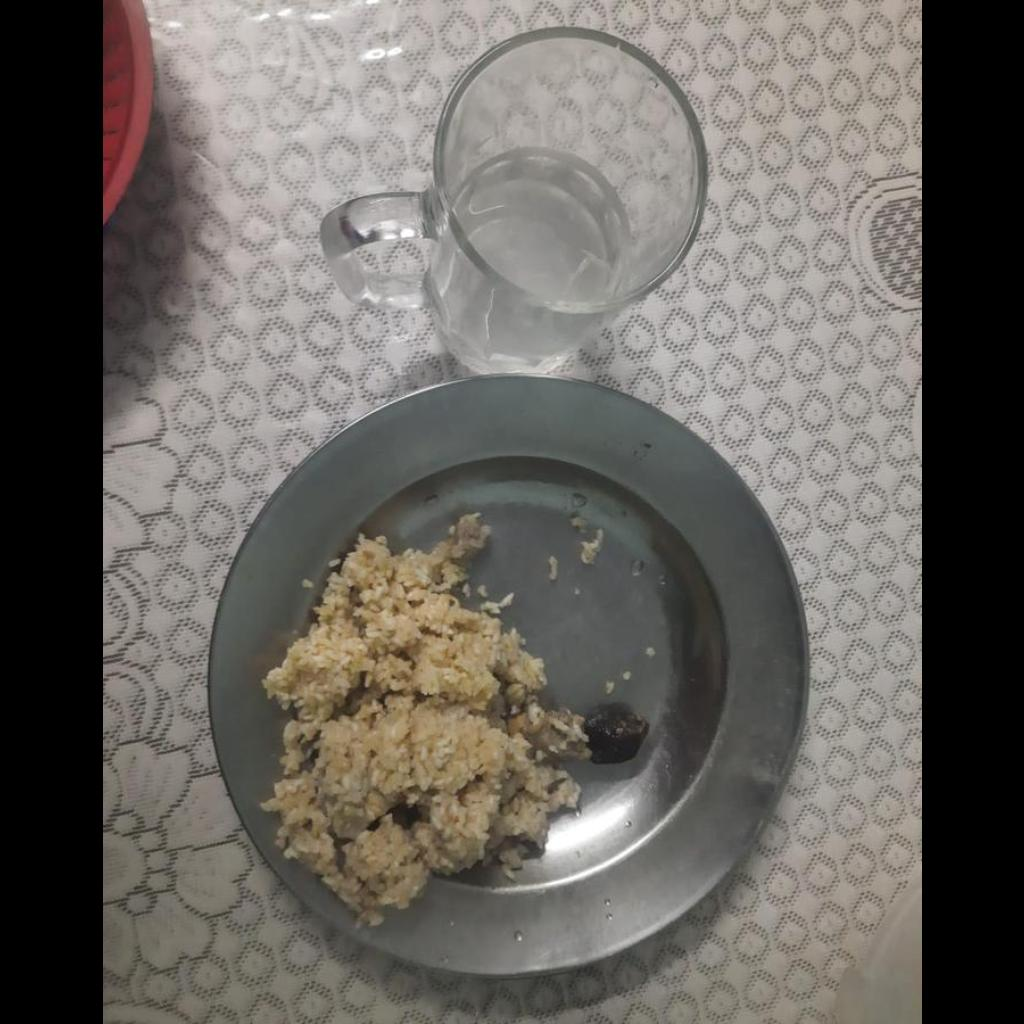biriyani: (260, 504, 590, 934)
dates: (583, 702, 647, 763)
juice: (456, 149, 620, 314)
